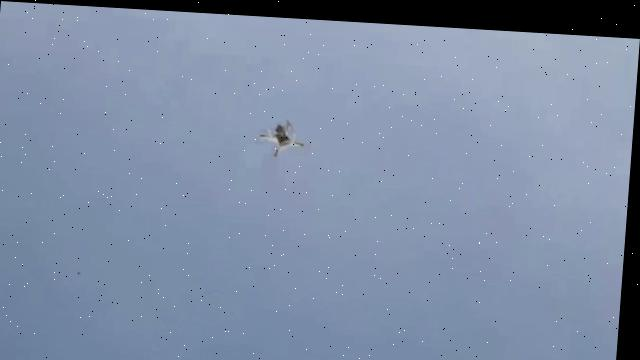drone: (216, 111, 364, 160)
